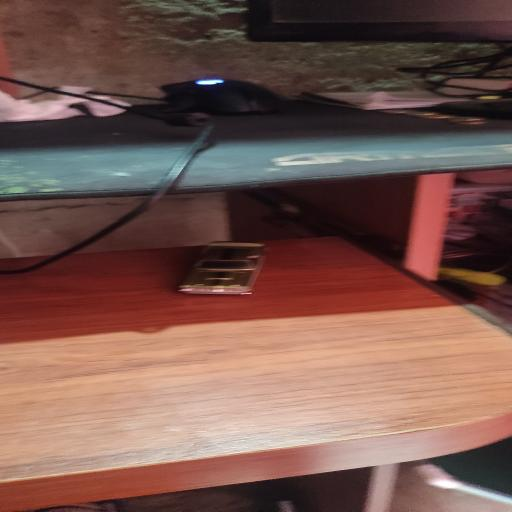Carrito: (179, 242, 265, 295)
